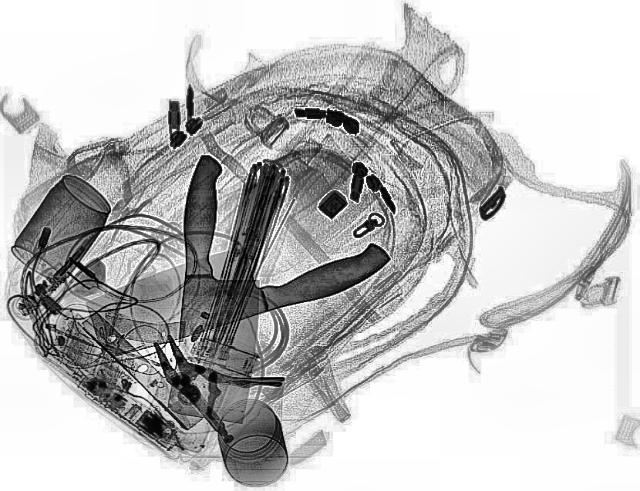Knife: (68, 208, 400, 360), (165, 153, 269, 423)
